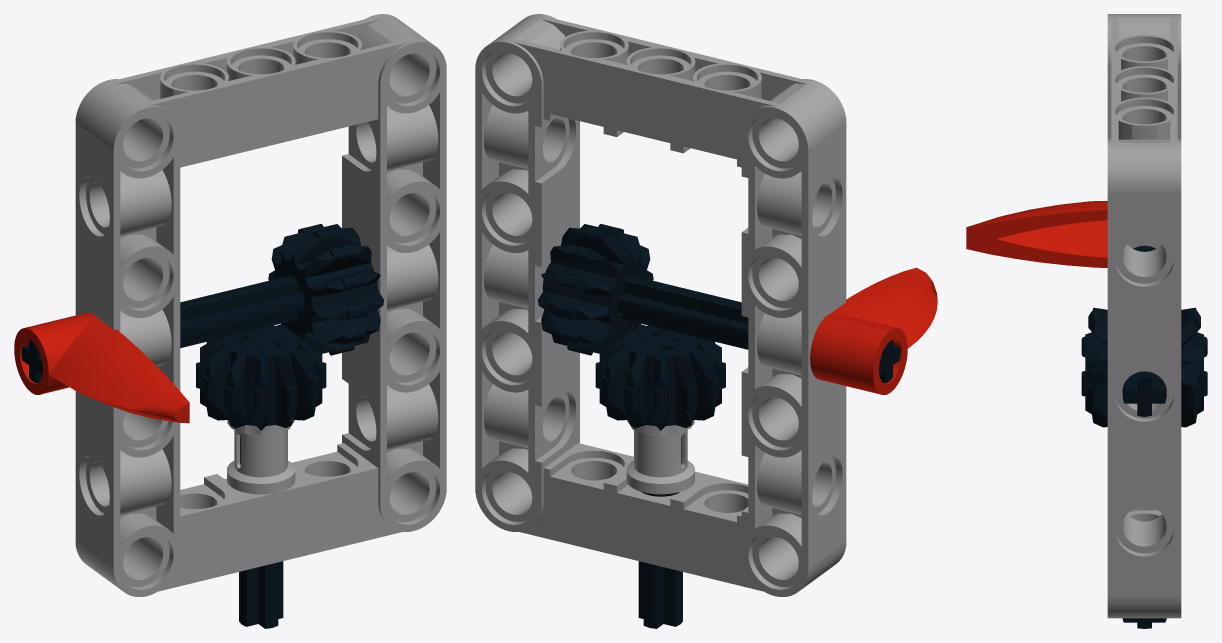
The model's file is 90_degree_7.glb.
3 renders of one model, left to right at view 1: azimuth 30°, elevation 25°; view 2: azimuth 150°, elevation 25°; view 3: azimuth 270°, elevation 25°, orthographic. The views are drawn at different scales.
Parts seen in each view (by area): view 1: 64179.dat, 32270.dat.001, 3705.dat; view 2: 64179.dat, 32270.dat.001, 3705.dat; view 3: 64179.dat, 32270.dat.001, 3705.dat.
Boxes of the visible parts, left/top/right/bottom form: 64179.dat: left=75, top=14, right=446, bottom=596; 32270.dat.001: left=14, top=224, right=383, bottom=423; 3705.dat: left=196, top=324, right=326, bottom=628; 64179.dat: left=475, top=14, right=846, bottom=596; 32270.dat.001: left=538, top=224, right=937, bottom=394; 3705.dat: left=595, top=324, right=725, bottom=628; 64179.dat: left=1107, top=14, right=1181, bottom=618; 32270.dat.001: left=966, top=201, right=1207, bottom=416; 3705.dat: left=1081, top=359, right=1207, bottom=628.
Size of the model in its own units: 1.2 by 1.6 by 0.6473.
